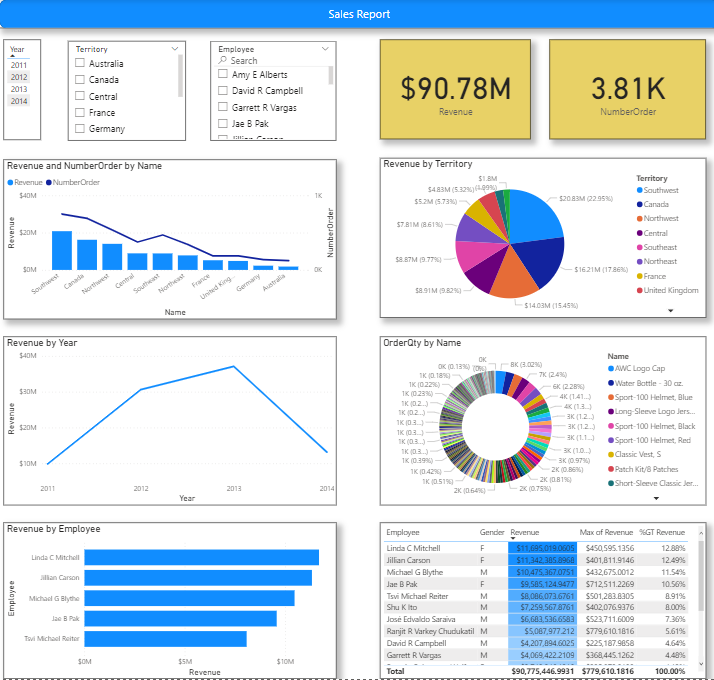

Layout of this report page (visuals, bound fields, positions):
{"tool":"powerbi","page":{"name":"Sales","canvas":[1280,1200],"ordinal":0},"visuals":[{"type":"shape","box":[9.5,0,1270.5,51],"z":0},{"type":"tableEx","fields":{"Values":["Dim_Year.Year"]},"box":[19,72,66,177],"z":1000},{"type":"slicer","fields":{"Values":["Dim_Territory.Name"]},"box":[132,74,208,176],"z":2000},{"type":"slicer","fields":{"Values":["Dim_SalesPerson.FullName"]},"box":[384,74,222,176],"z":3000},{"type":"card","fields":{"Values":["Sum(Fact_SalesOrder.Revenue)"]},"box":[684,72,266,176],"z":4000},{"type":"card","fields":{"Values":["Sum(Fact_SalesOrder.NumberOrder)"]},"box":[984,72,276,176],"z":5000},{"type":"lineStackedColumnComboChart","fields":{"Category":["Dim_Territory.Name"],"Y":["Sum(Fact_SalesOrder.Revenue)"],"Y2":["Sum(Fact_SalesOrder.NumberOrder)"]},"box":[18,284,588,282],"z":6000},{"type":"lineChart","fields":{"Y":["Sum(Fact_SalesOrder.Revenue)"],"Category":["Dim_Year.Year"]},"box":[18,596,588,298],"z":7000},{"type":"pieChart","fields":{"Category":["Dim_Territory.Name"],"Y":["Sum(Fact_SalesOrder.Revenue)"]},"box":[684,282,576,282],"z":8000},{"type":"donutChart","fields":{"Category":["Dim_Product.Name Hierarchy.Name","Dim_Product.Name Hierarchy.SubCategoryName","Dim_Product.Name Hierarchy.CategoryName"],"Y":["Sum(Fact_Product.OrderQty)"]},"box":[684,596,576,298],"z":9000},{"type":"clusteredBarChart","fields":{"Category":["Dim_SalesPerson.FullName"],"Y":["Sum(Fact_SalesOrder.Revenue)"]},"box":[18,924,588,276],"z":10000},{"type":"tableEx","fields":{"Values":["Dim_SalesPerson.FullName","Dim_SalesPerson.Gender","Sum(Fact_SalesOrder.Revenue)","Max(Fact_SalesOrder.Revenue)","Divide(Sum(Fact_SalesOrder.Revenue), ScopedEval(Sum(Fact_SalesOrder.Revenue), []))"]},"box":[684,924,576,276],"z":11000}]}

Visuals, with their boxes in screenshot pixels (x1, y1, x2, y2), scaled from the page's 1280x1200 canvas onto the 714x680 screenshot:
shape: <region>5, 0, 713, 29</region>
tableEx - Dim_Year.Year: <region>11, 41, 47, 141</region>
slicer - Dim_Territory.Name: <region>74, 42, 190, 142</region>
slicer - Dim_SalesPerson.FullName: <region>214, 42, 338, 142</region>
card - Sum(Fact_SalesOrder.Revenue): <region>382, 41, 530, 141</region>
card - Sum(Fact_SalesOrder.NumberOrder): <region>549, 41, 703, 141</region>
lineStackedColumnComboChart - Dim_Territory.Name x Sum(Fact_SalesOrder.Revenue): <region>10, 161, 338, 321</region>
lineChart - Sum(Fact_SalesOrder.Revenue) x Dim_Year.Year: <region>10, 338, 338, 507</region>
pieChart - Dim_Territory.Name x Sum(Fact_SalesOrder.Revenue): <region>382, 160, 703, 320</region>
donutChart - Dim_Product.Name Hierarchy.Name x Dim_Product.Name Hierarchy.SubCategoryName: <region>382, 338, 703, 507</region>
clusteredBarChart - Dim_SalesPerson.FullName x Sum(Fact_SalesOrder.Revenue): <region>10, 524, 338, 679</region>
tableEx - Dim_SalesPerson.FullName x Dim_SalesPerson.Gender: <region>382, 524, 703, 679</region>
